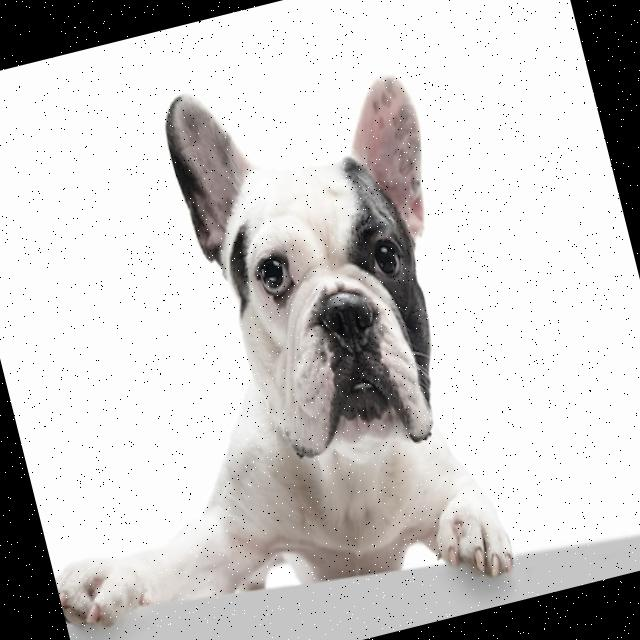Dog: (0, 37, 533, 640)
